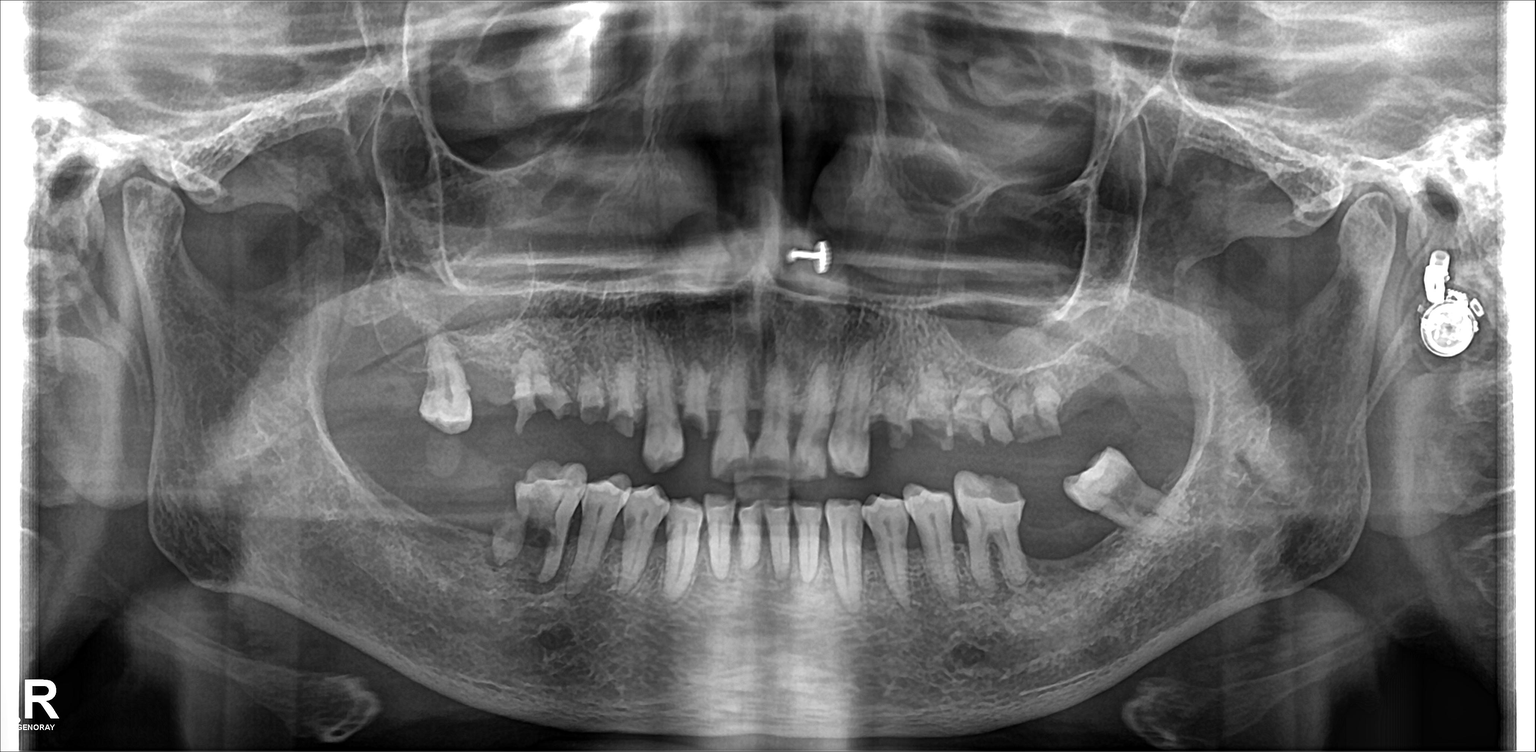Dental Caries: (516, 517, 559, 553)
Impacted Third Molar: (1071, 456, 1186, 526)
Missing Tooth: (1013, 480, 1080, 573), (387, 447, 431, 554), (1073, 346, 1119, 448), (1155, 328, 1195, 439), (365, 307, 407, 407), (335, 430, 380, 523), (438, 463, 477, 570), (462, 344, 508, 432), (1121, 337, 1158, 438), (326, 311, 365, 399)
Retained Root: (1007, 359, 1067, 450), (514, 354, 572, 441), (916, 352, 959, 466), (870, 352, 915, 460), (484, 462, 524, 570), (965, 363, 1007, 456), (603, 354, 648, 438), (672, 367, 715, 448), (572, 348, 609, 435)
